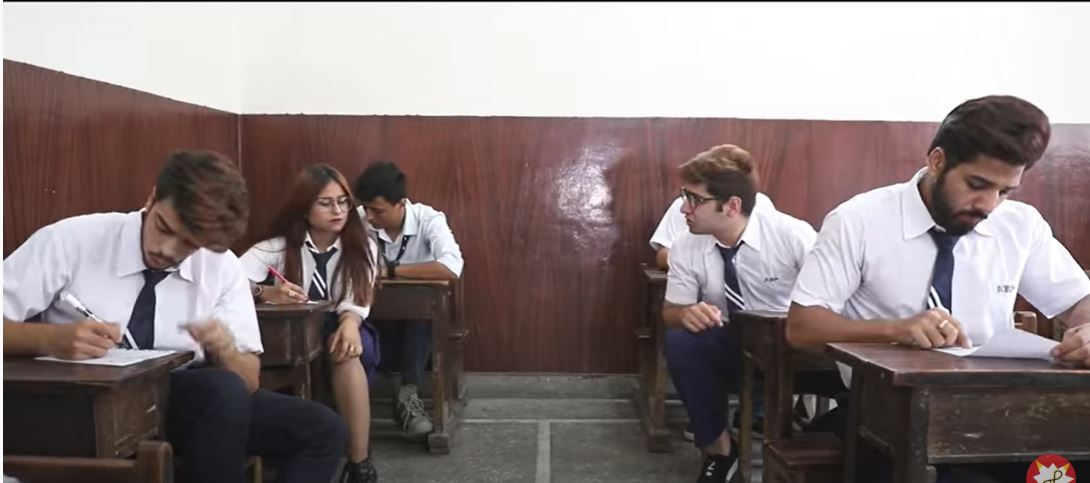student: (815, 123, 1067, 357), (93, 169, 276, 366), (250, 148, 392, 329), (629, 159, 802, 306), (349, 154, 454, 276)
